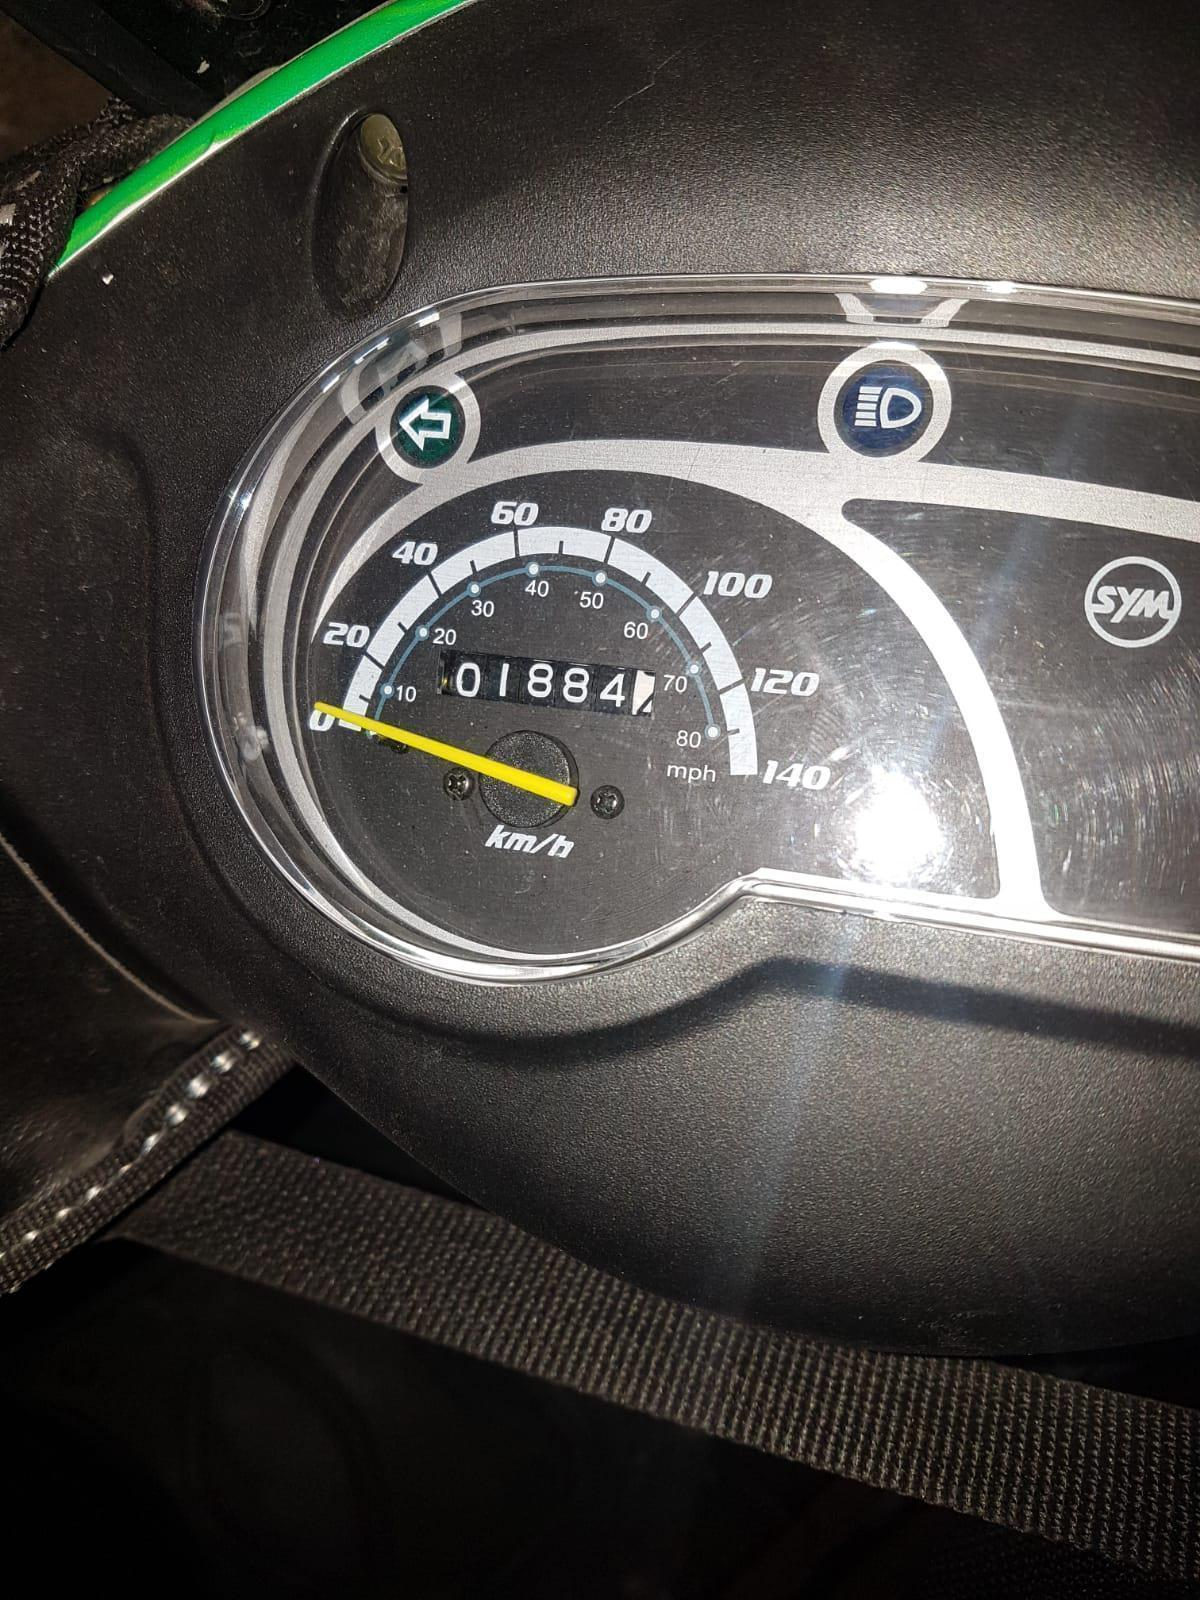0: (455, 656, 482, 698)
1: (495, 659, 512, 698)
4: (597, 670, 626, 709), (634, 689, 655, 718)
8: (523, 661, 555, 699), (561, 665, 591, 704)
odometer: (434, 646, 657, 721)
